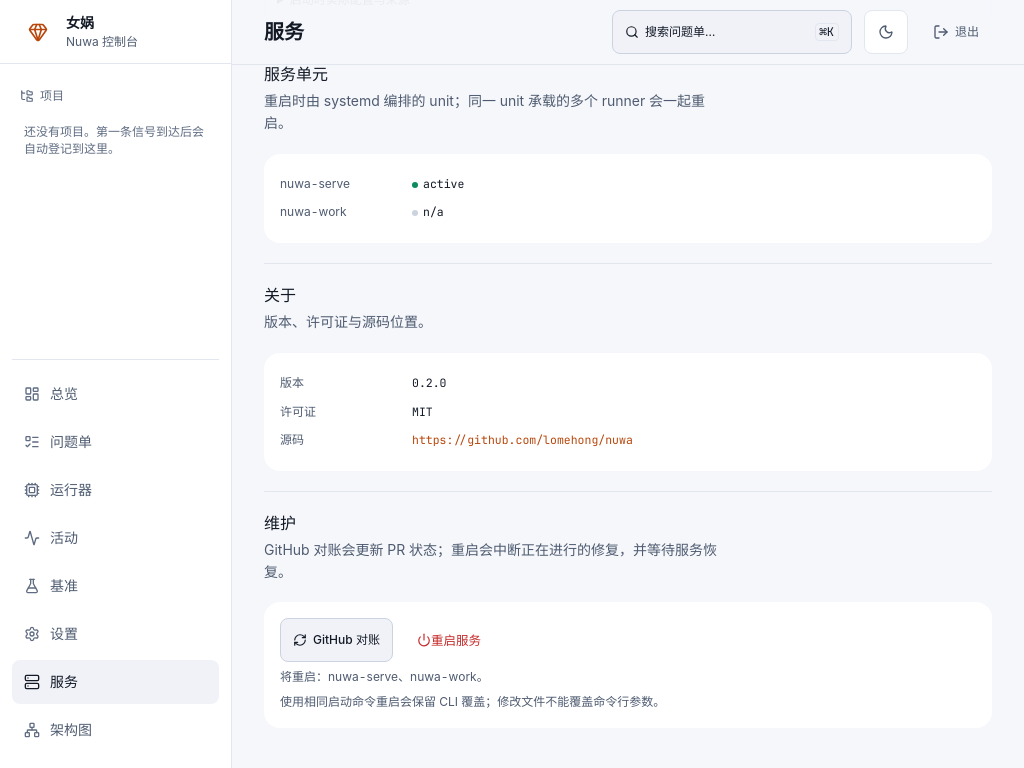
Test: RestartDialog › includes 422 field errors in the restart failure message
The image size is (1024, 768).
(page scrolled)
Click the button "重启服务" at (449, 640), box [405, 624, 493, 656]
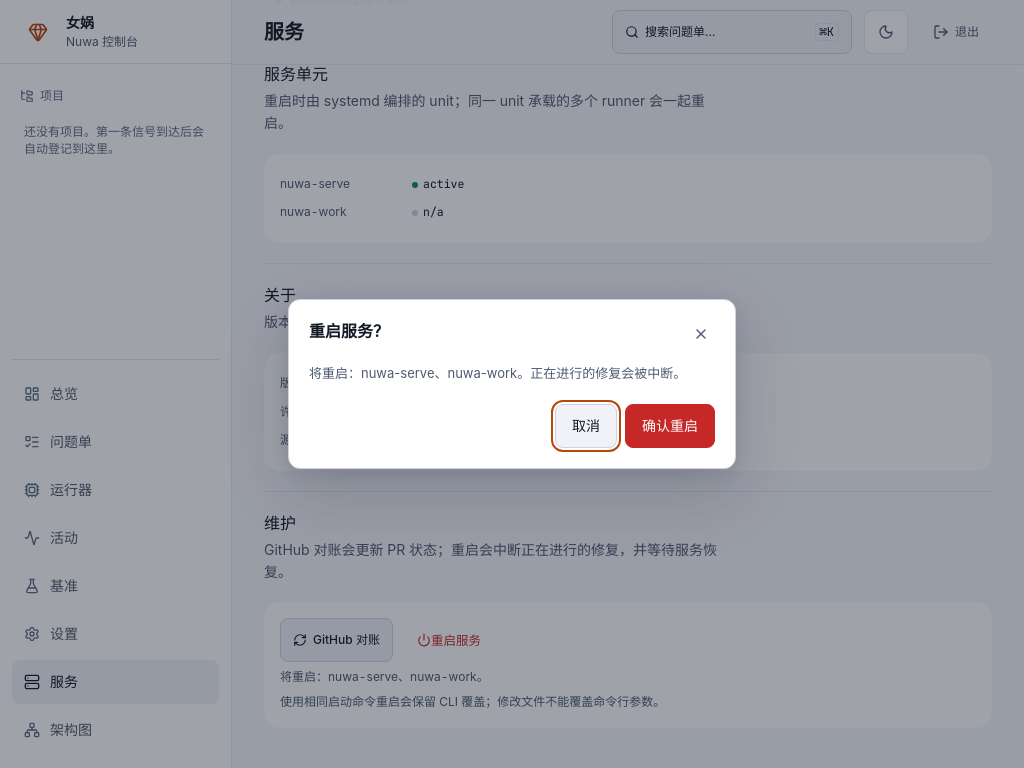
Click the button "确认重启" at (670, 426), box [625, 404, 715, 448]
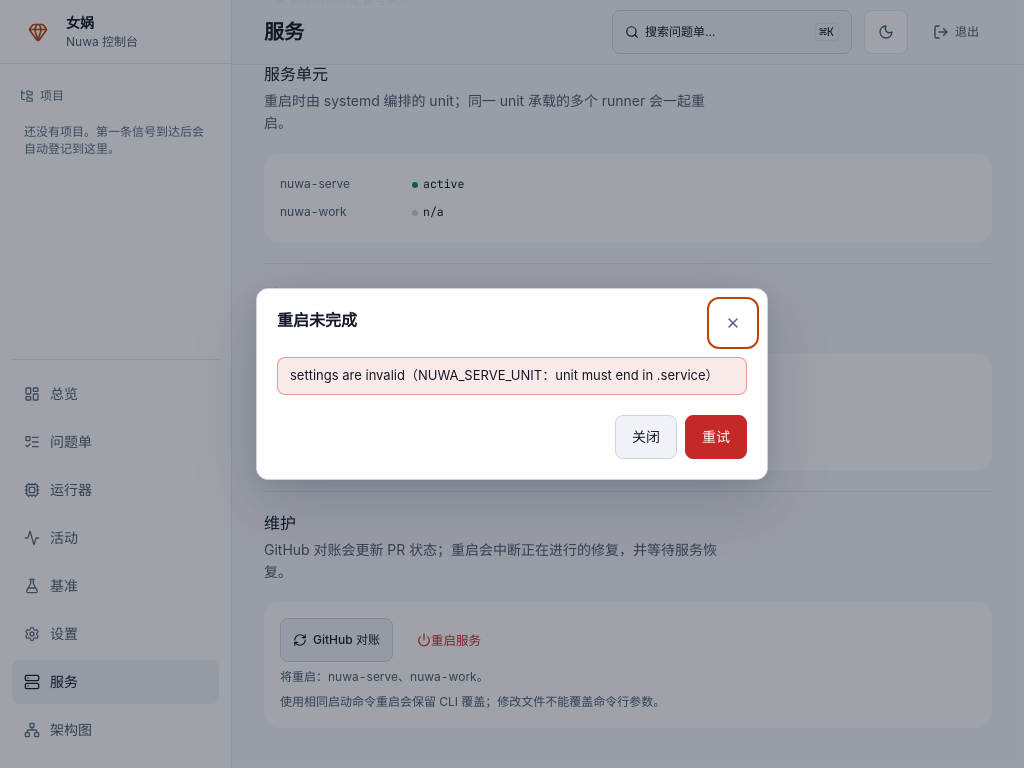
Now the text "settings are invalid（NUWA_SERVE_UNIT：unit must end in .service）" is shown, box [277, 357, 747, 395]
Now the button "重试" is shown, box [685, 415, 747, 459]
